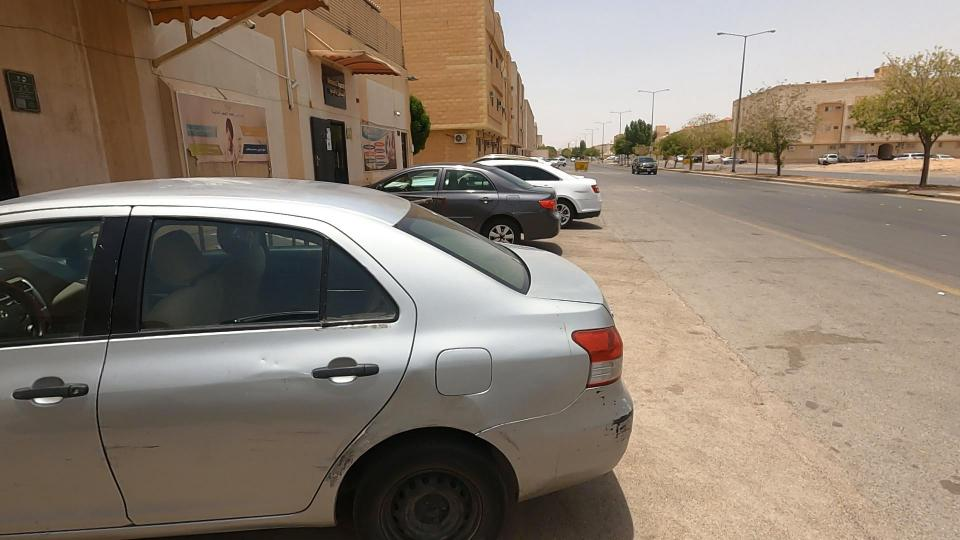BAD_BILLBOARD: (103, 33, 340, 236)
